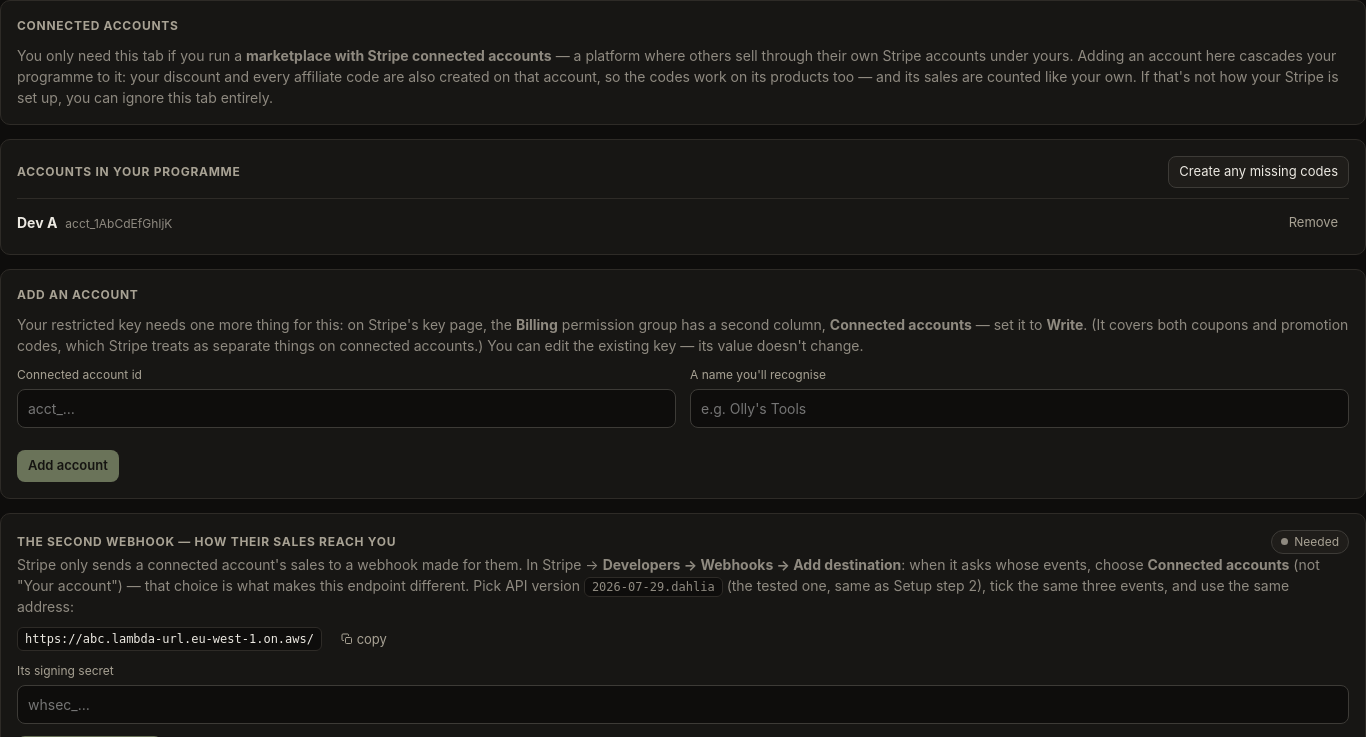
it: for a marketplace › removing an account keeps what it owes on the ledger, and says so
Click the button "Remove" at point(1313, 222), box [1278, 206, 1349, 238]
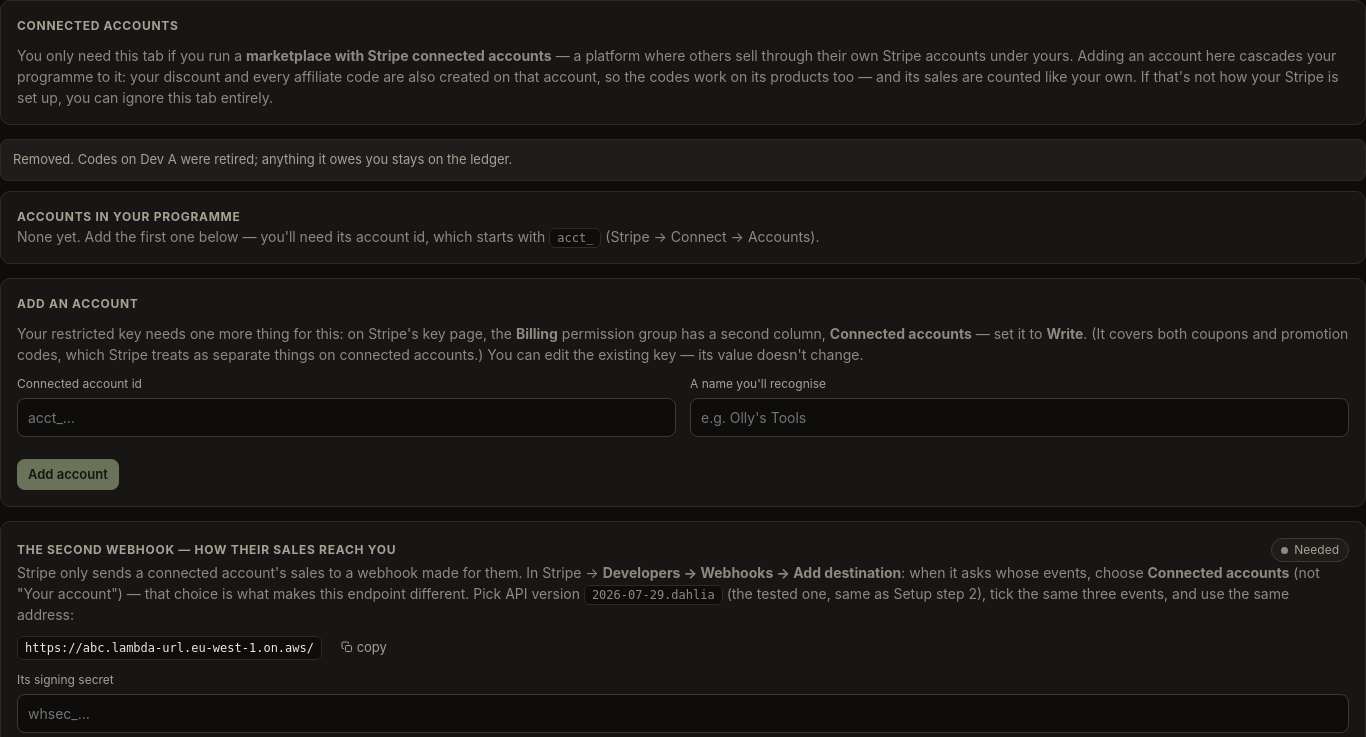
Now the text "anything it owes you stays on the ledger" is shown, box [13, 151, 512, 167]
